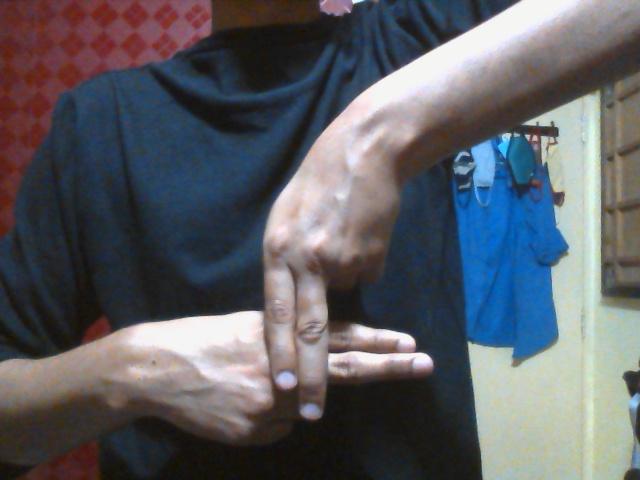F: (152, 161, 436, 448)
